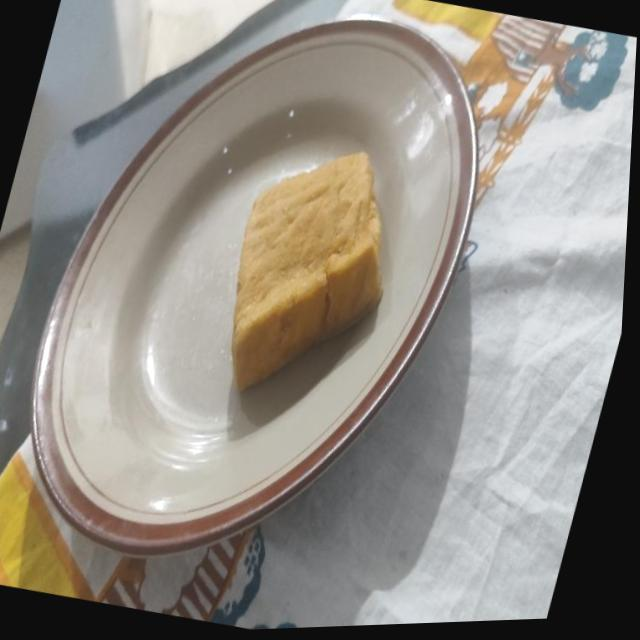tahu_goreng: (231, 152, 382, 391)
